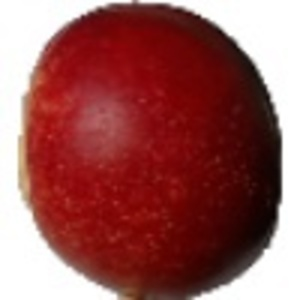nectarina: (17, 2, 282, 300)
